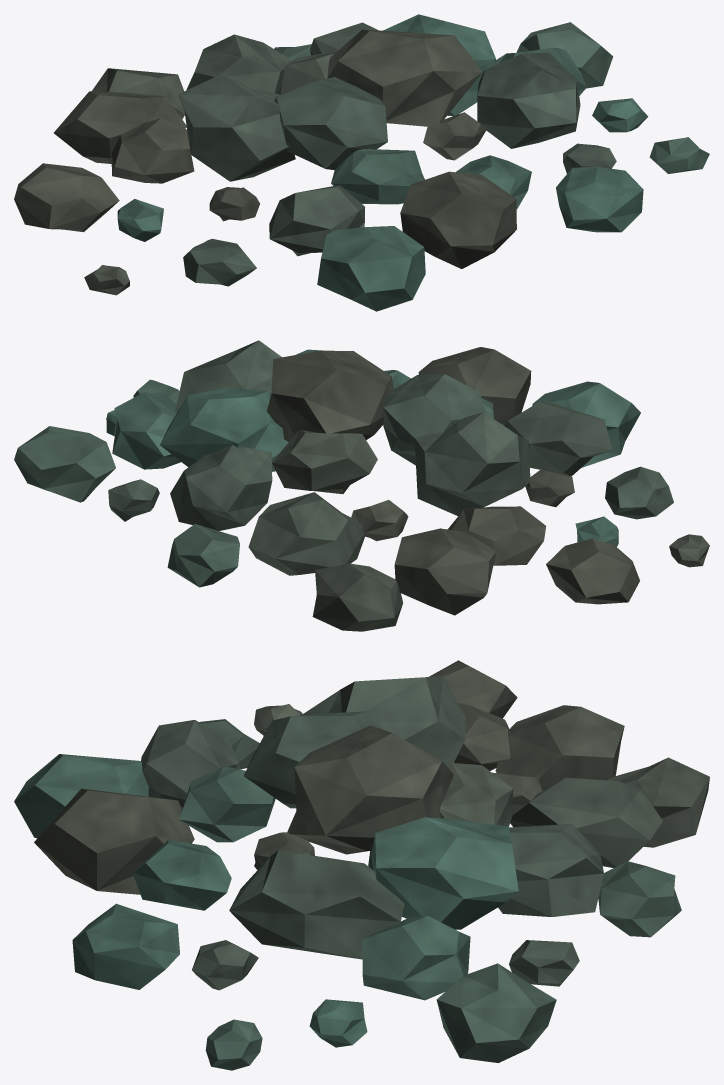
The model's file is ore.glb.
3 renders of one model, top to bottom at view 1: azimuth 30°, elevation 25°; view 2: azimuth 150°, elevation 25°; view 3: azimuth 270°, elevation 25°, orthographic. The views are drawn at different scales.
Parts seen in each view (by area): view 1: part_0; view 2: part_0; view 3: part_0.
Part boxes in pixels (left/top/right/bottom): part_0: left=14, top=14, right=709, bottom=311; part_0: left=14, top=340, right=709, bottom=631; part_0: left=14, top=660, right=709, bottom=1070.
Bounding box in the file's own units: 0.8629 × 0.2098 × 0.7086.
1 material, 1 textured.
